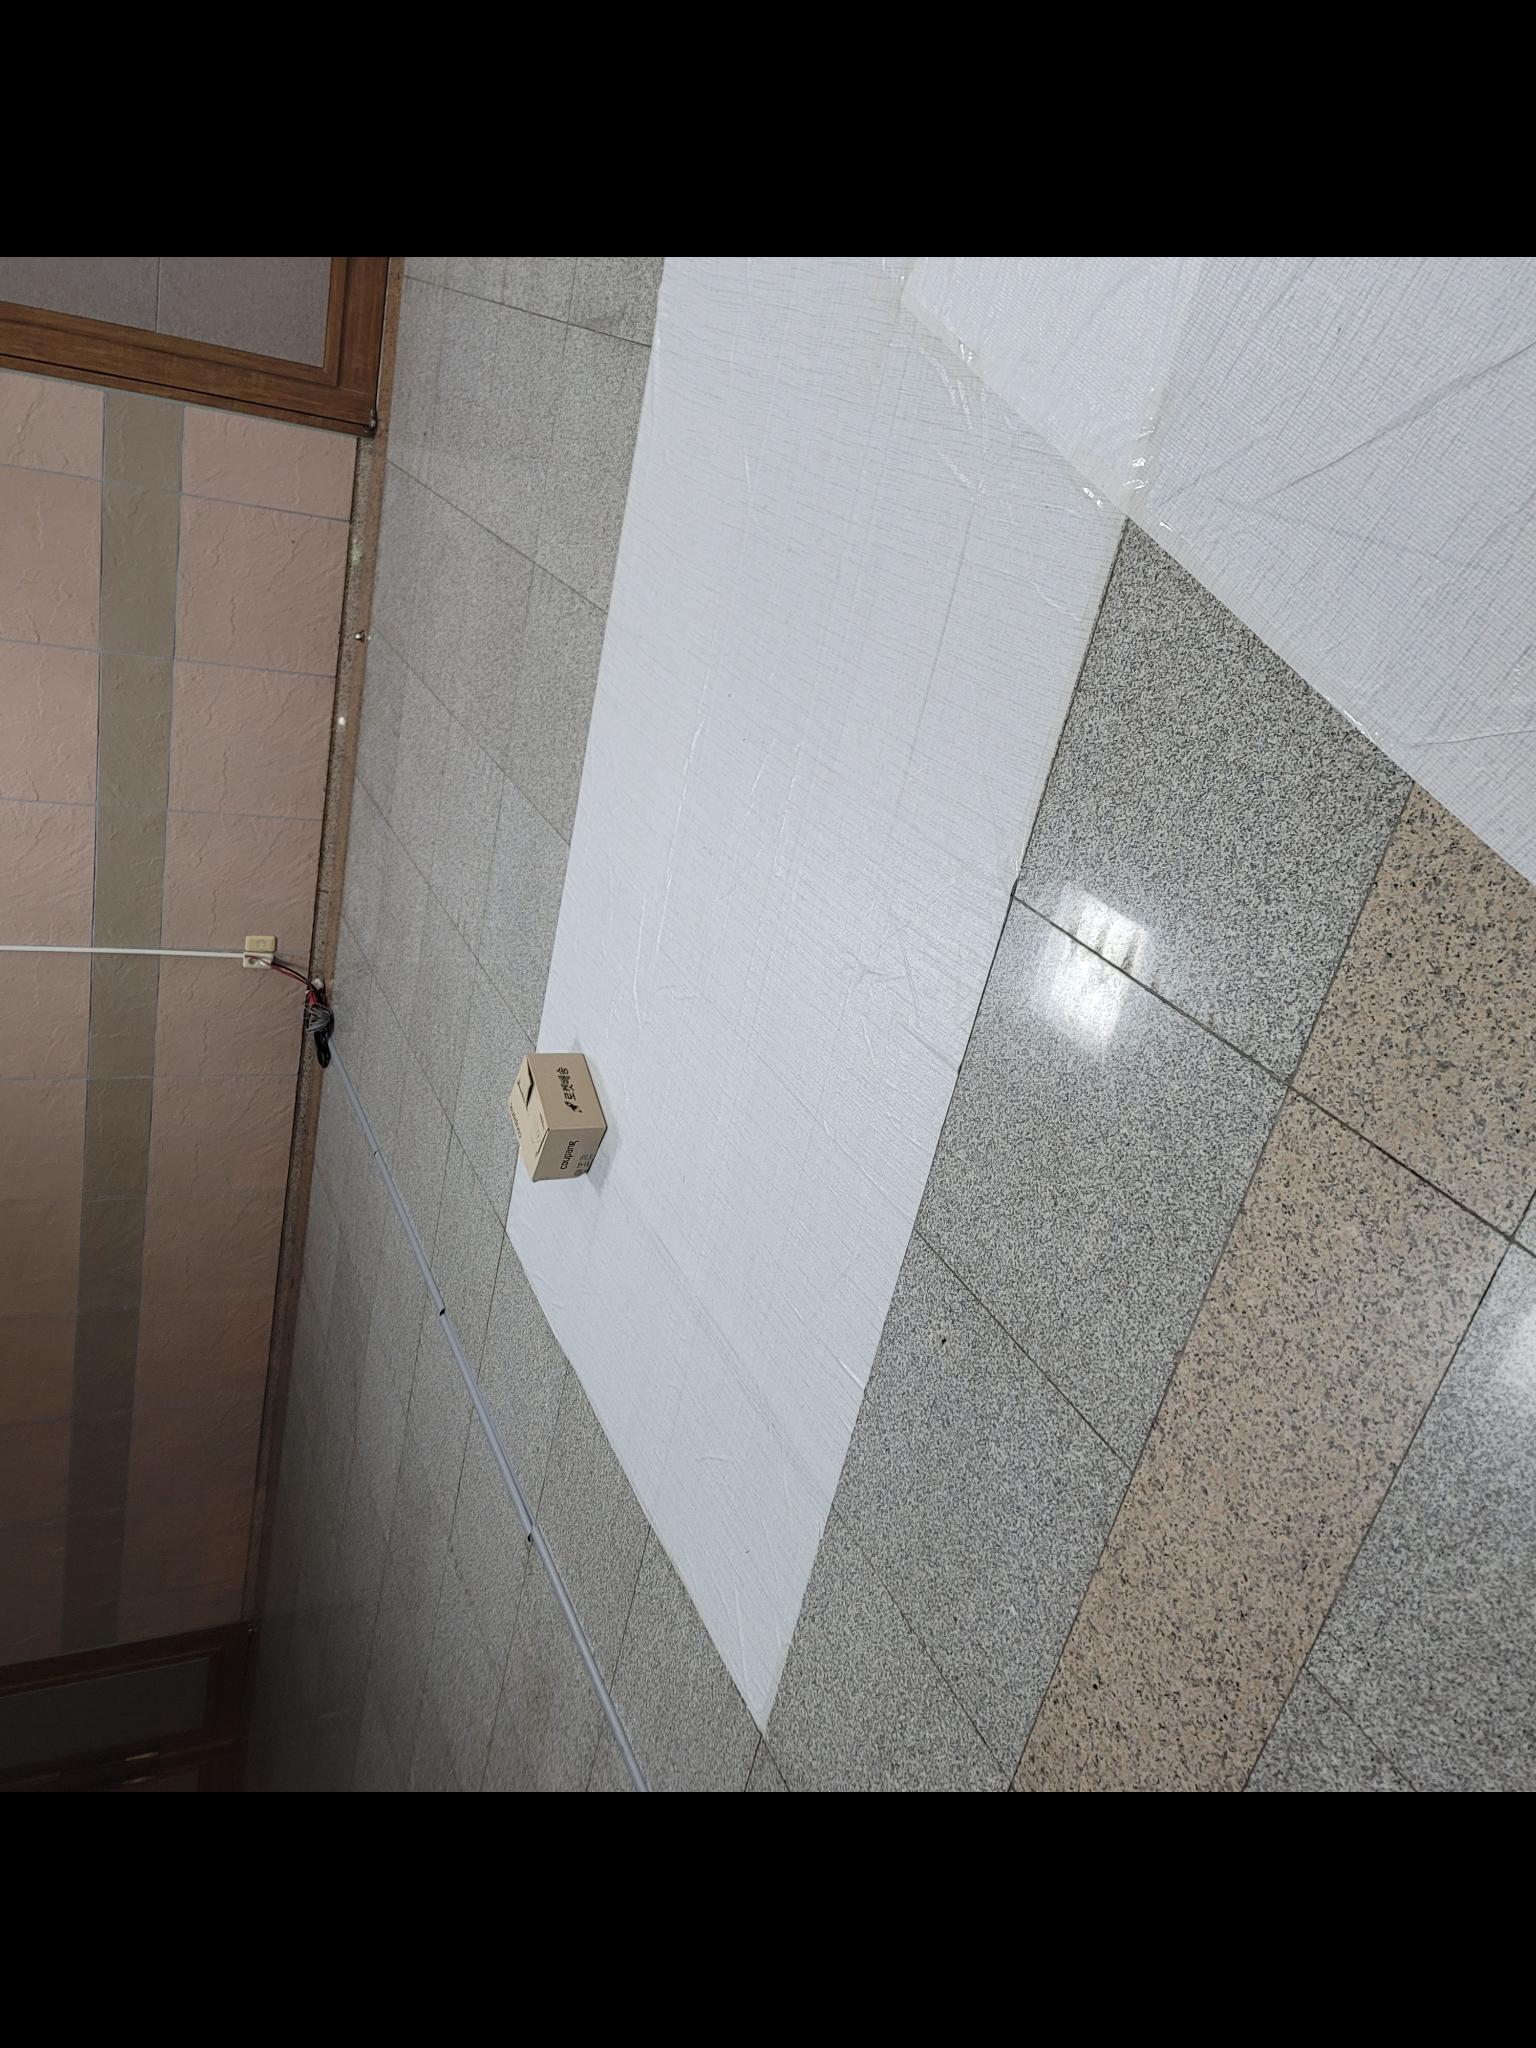Box: (499, 1045, 608, 1192)
